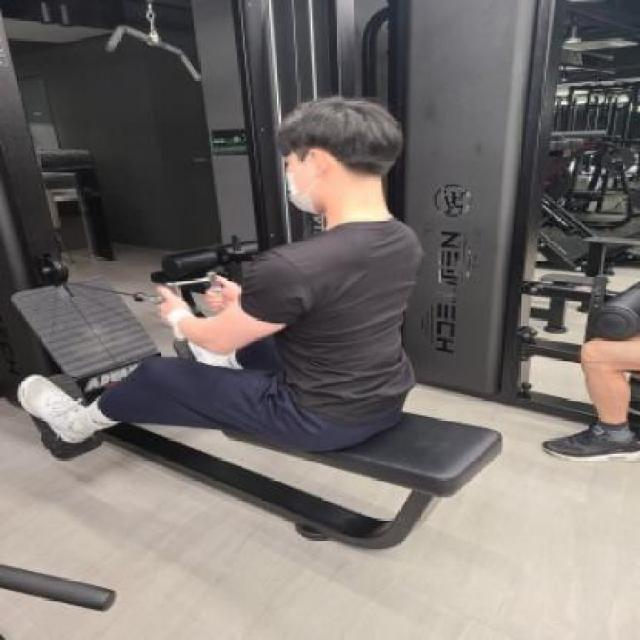Seated Cable Rows: (4, 3, 504, 575)
